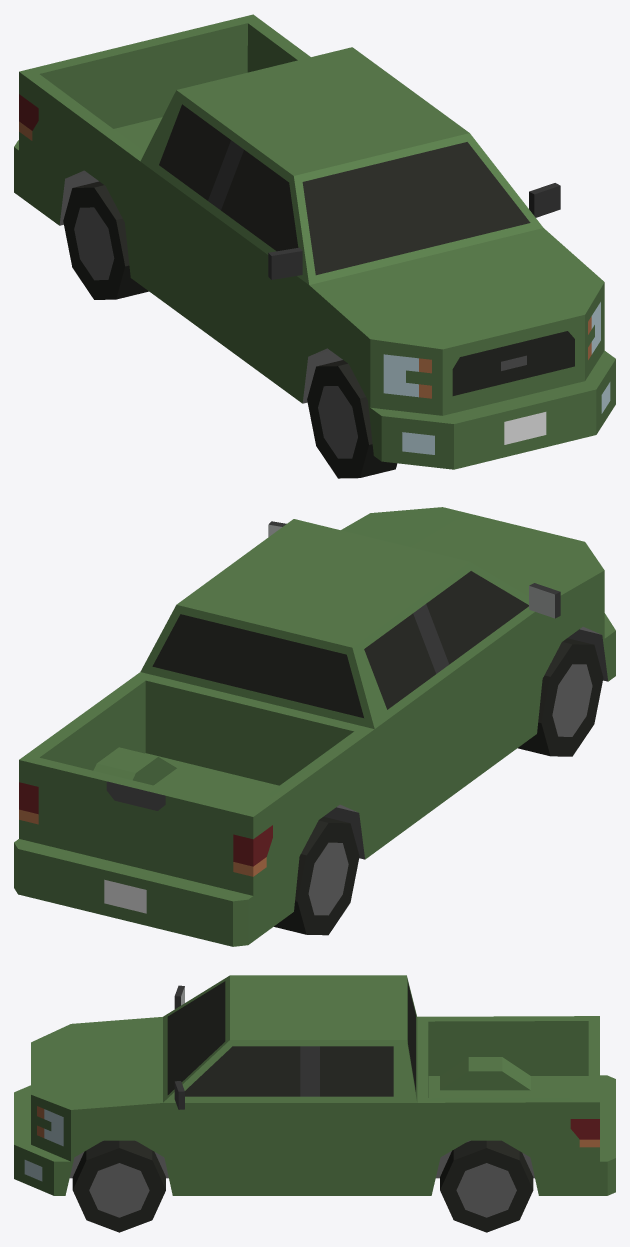
Rendered from Veh_Pickup_03_Green.glb.
The picture shows the model from 3 angles, top to bottom: view 1: azimuth 30°, elevation 25°; view 2: azimuth 150°, elevation 25°; view 3: azimuth 270°, elevation 25°; orthographic projection. The views are drawn at different scales.
Visible parts, largest first — view 1: Pickup_03_Green, Wheel_FR, Wheel_RR; view 2: Pickup_03_Green, Wheel_FR, Wheel_RR; view 3: Pickup_03_Green, Wheel_FL, Wheel_RL.
Part boxes in pixels (x1,y1,x2,y2): Pickup_03_Green: (14,14,615,469); Wheel_FR: (307,360,397,478); Wheel_RR: (63,181,148,299); Pickup_03_Green: (14,507,615,946); Wheel_FR: (518,638,603,756); Wheel_RR: (274,816,359,935); Pickup_03_Green: (14,975,615,1195); Wheel_FL: (72,1140,165,1232); Wheel_RL: (440,1140,533,1232).
Bounding box in the file's own units: 1.37 × 1.1 × 3.29.
1 material, 1 textured.
